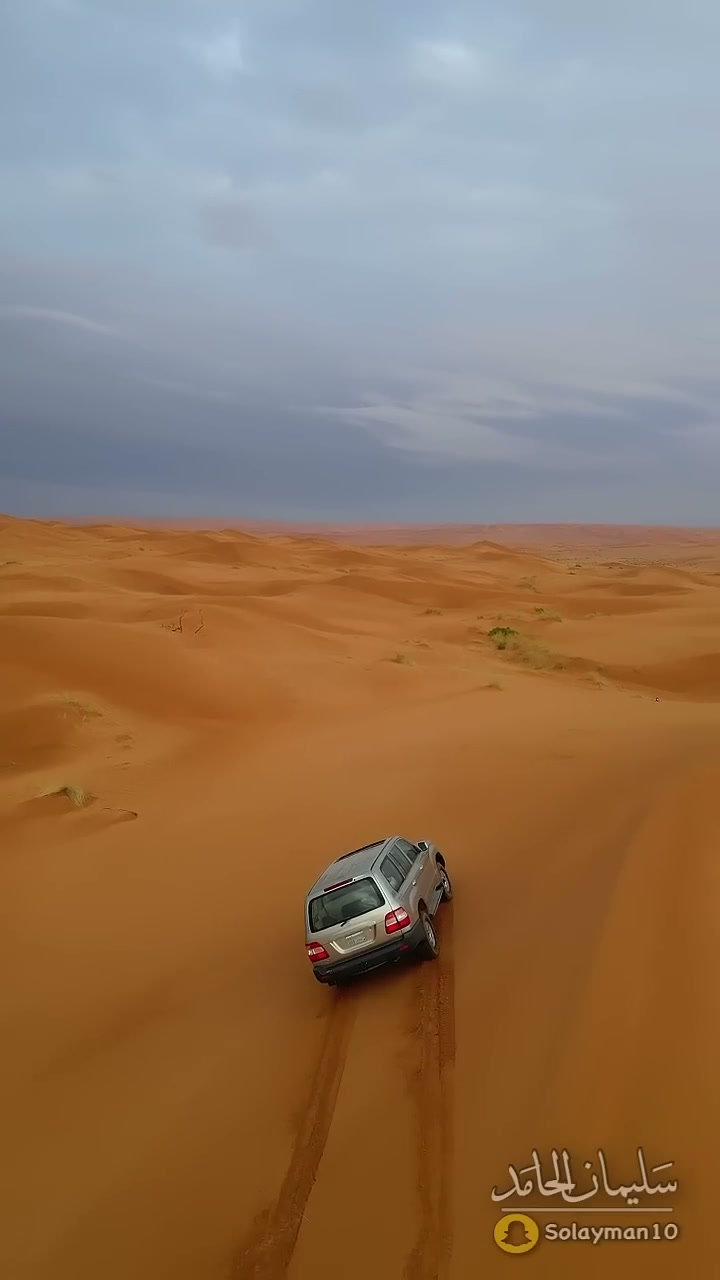vehicle_track: (228, 989, 354, 1279), (405, 904, 454, 1279)
